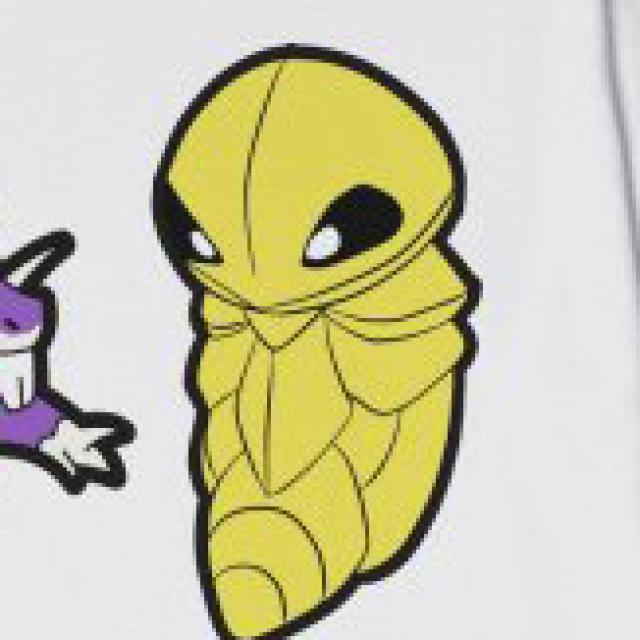Kakuna: (147, 42, 488, 640)
